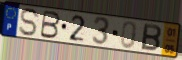0: (119, 20, 138, 50)
2: (69, 14, 87, 44)
3: (91, 16, 111, 47)
B: (140, 22, 163, 53), (39, 9, 62, 40)
S: (18, 7, 42, 38)
